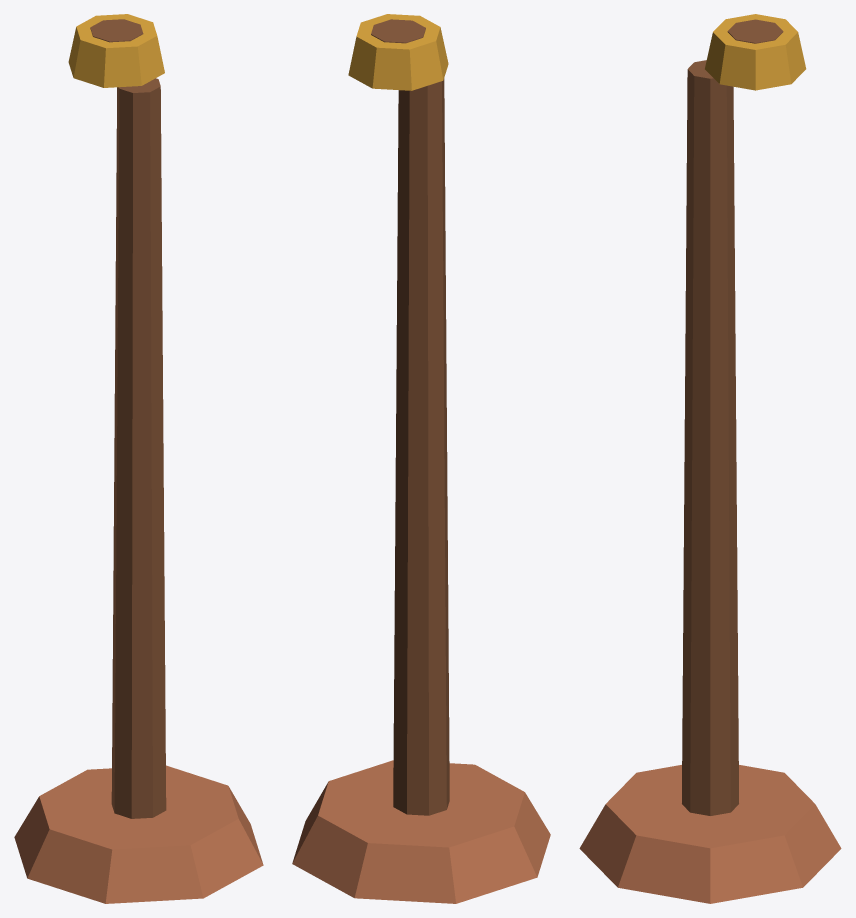
The model's file is torch_stand.glb.
The picture shows the model from 3 angles, left to right: view 1: azimuth 30°, elevation 25°; view 2: azimuth 150°, elevation 25°; view 3: azimuth 270°, elevation 25°; orthographic projection. The views are drawn at different scales.
Visible parts, largest first — view 1: torch_stand-col; view 2: torch_stand-col; view 3: torch_stand-col.
Part boxes in pixels (<box>): torch_stand-col: <box>14,14,263,903</box>; torch_stand-col: <box>292,14,550,903</box>; torch_stand-col: <box>579,14,841,903</box>.
Bounding box in the file's own units: 0.32 × 1.1 × 0.32.
